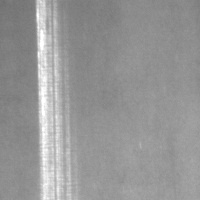scratches: (36, 1, 66, 199)
